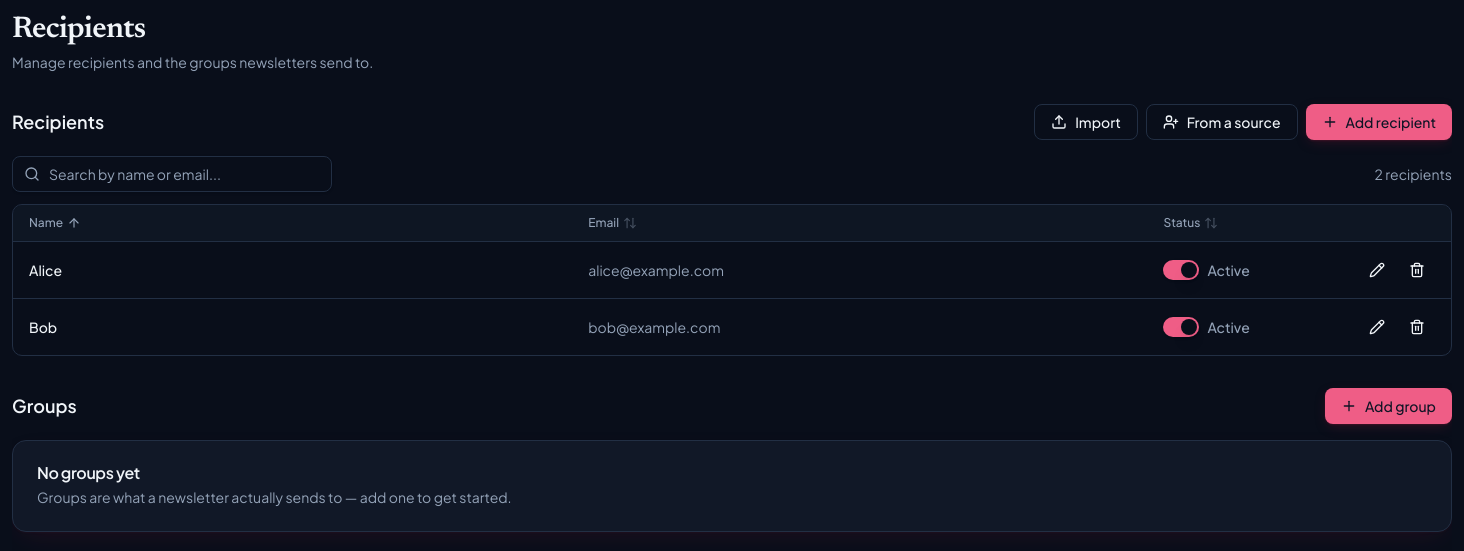
Test: RecipientsPage › filters recipients by name or email as the search box changes
Expected: the text "Alice" is shown, 29,261 -> 62,279
Expected: the text "Bob" is shown, 29,318 -> 57,336
In the search field named "Search recipients by name or email": (172, 174) 12,156 -> 332,192, type "bob@"
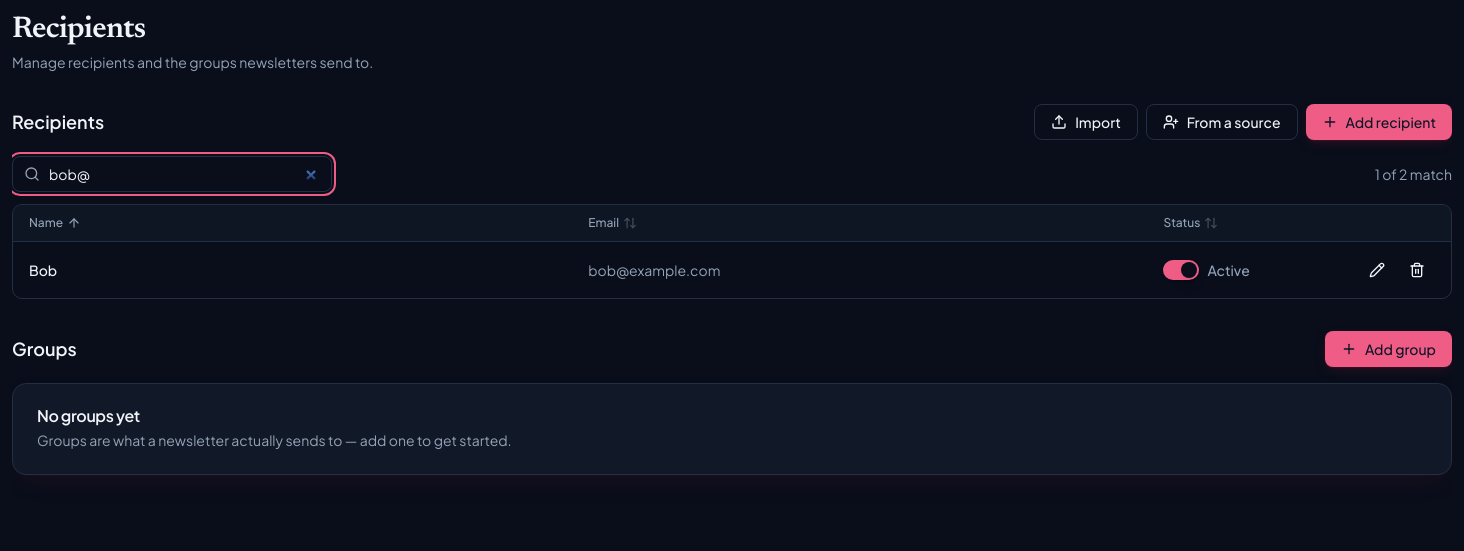
Expected: the text "Bob" is shown, 29,261 -> 57,279
Expected: the text "Alice" is gone
Expected: the text "1 of 2 match" is shown, 1375,164 -> 1452,184
Replace the text in the search field named "Search recipients by name or email" with "nobody-matches-this": (172, 174) 12,156 -> 332,192
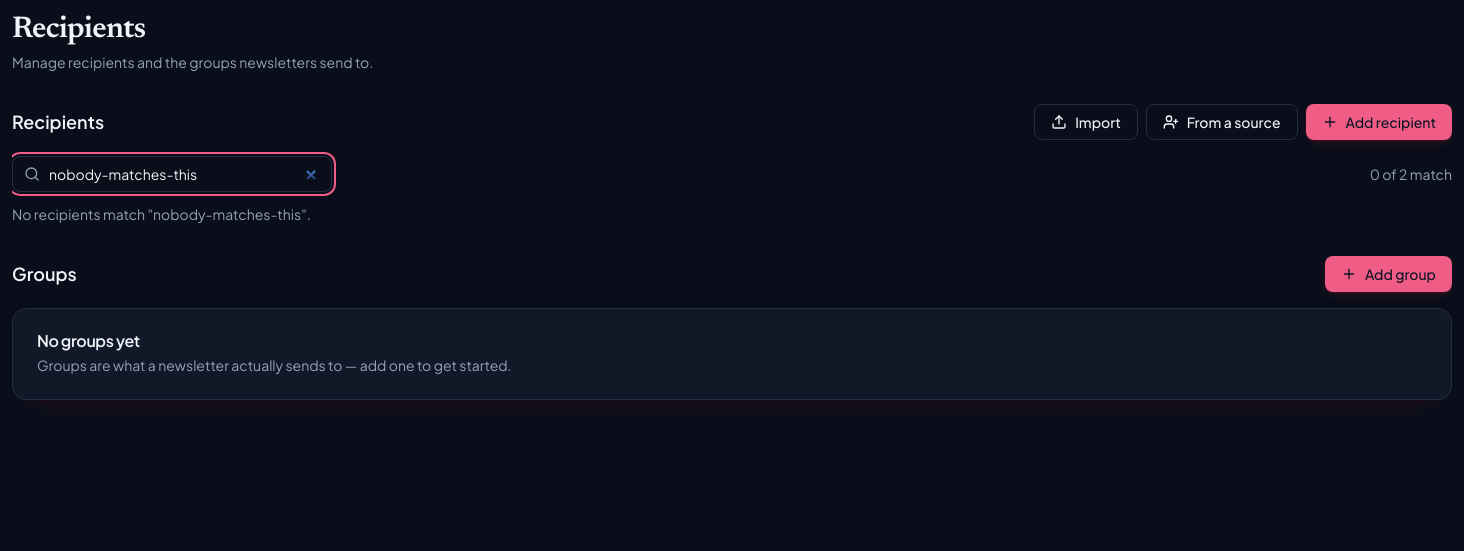
Expected: the text "No recipients match \"nobody-matches-this\"." is shown, 12,205 -> 311,223
